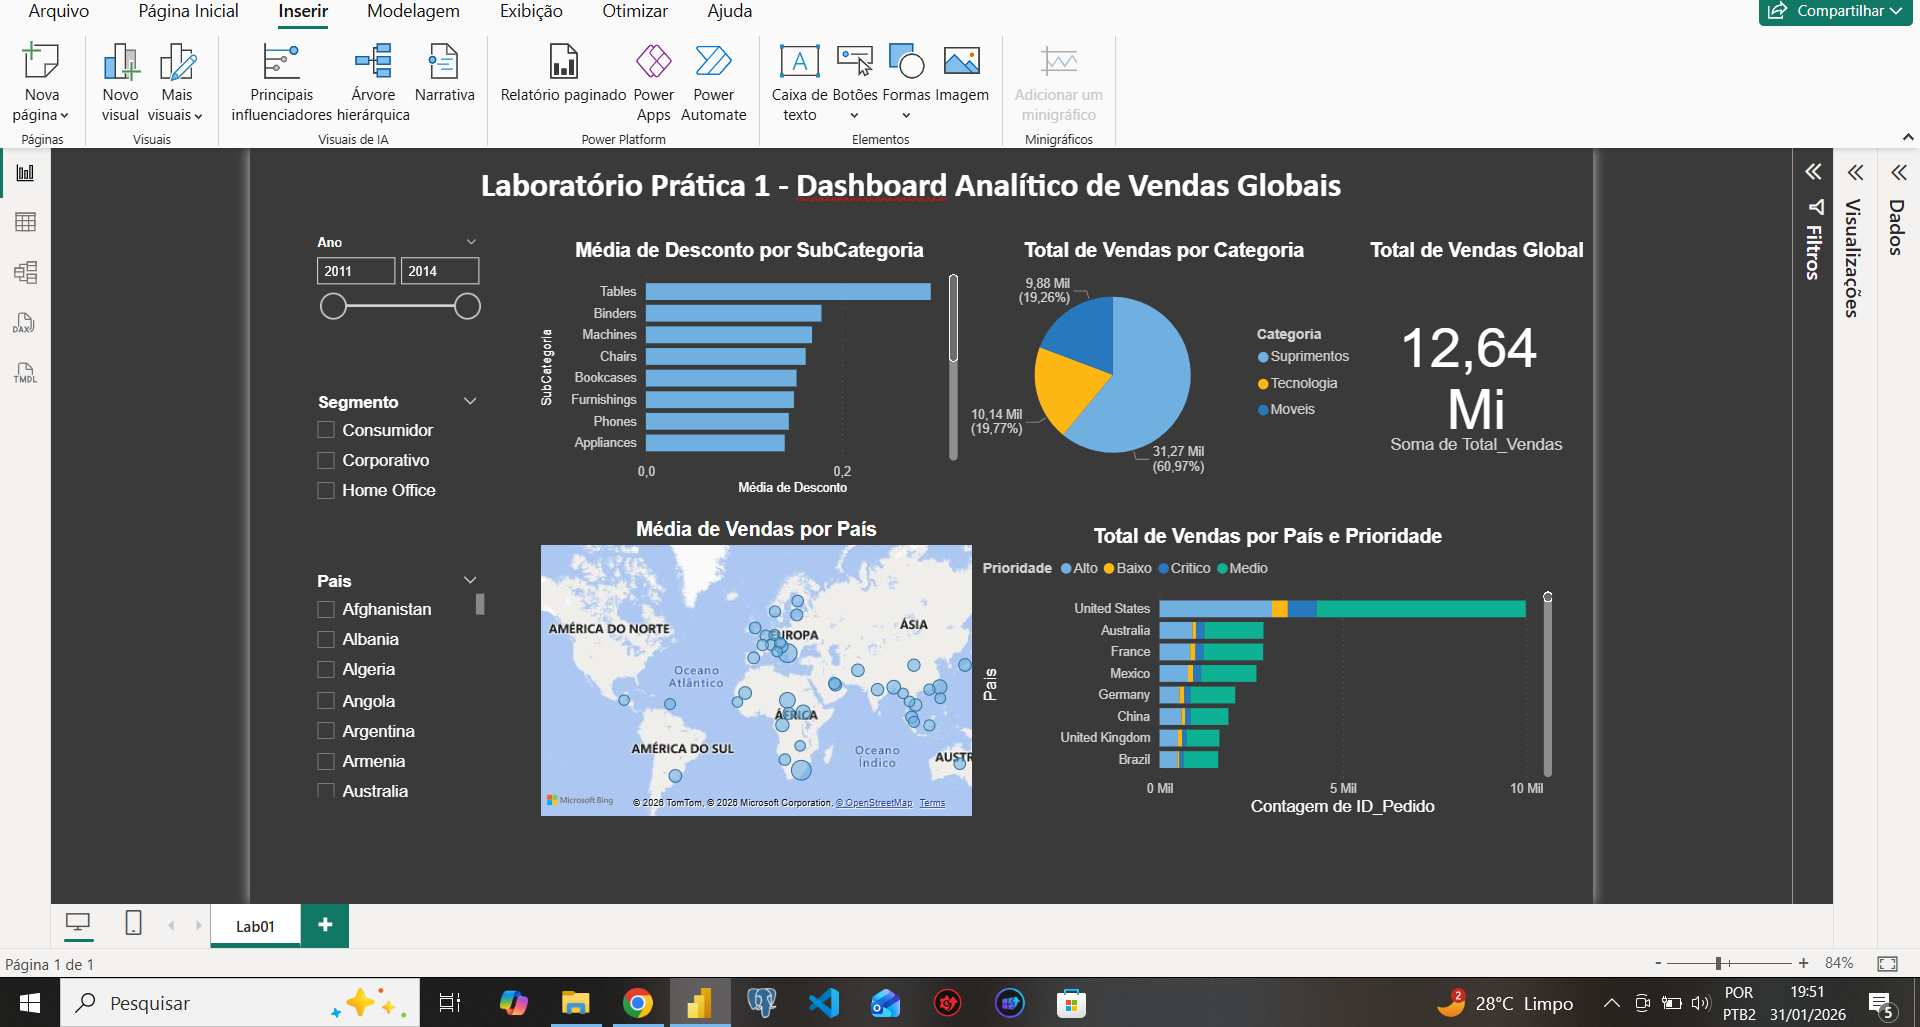

Layout of this report page (visuals, bound fields, positions):
{"tool":"powerbi","page":{"name":"Lab01","canvas":[1280,720],"ordinal":0},"visuals":[{"type":"card","title":"Total de Vendas Global","fields":{"Values":["Sum(dataset.Total_Vendas)"]},"box":[1055.6,86.9,224.4,248.5],"z":0},{"type":"pieChart","title":"Total de Vendas por Categoria","fields":{"Category":["dataset.Categoria"],"Y":["CountNonNull(dataset.ID_Pedido)"]},"box":[679.2,86.9,381.2,237.7],"z":1000},{"type":"barChart","title":"Total de Vendas por País e Prioridade","fields":{"Category":["dataset.Pais"],"Y":["CountNonNull(dataset.ID_Pedido)"],"Series":["dataset.Prioridade"]},"box":[692.5,359.5,552.5,281.1],"z":2000},{"type":"clusteredBarChart","fields":{"Category":["dataset.SubCategoria"],"Y":["Avg(dataset.Desconto)"]},"box":[272.7,86.9,406.6,248.5],"z":3000},{"type":"map","title":"Média de Vendas por País","fields":{"Category":["dataset.Pais"],"Size":["Avg(dataset.Total_Vendas)"]},"box":[272.7,352.3,419.8,288.3],"z":4000},{"type":"slicer","fields":{"Values":["dataset.Pais"]},"box":[50.7,399.3,177.3,224.4],"z":5000},{"type":"slicer","fields":{"Values":["dataset.Segmento"]},"box":[50.7,228,177.3,171.3],"z":6000},{"type":"slicer","fields":{"Values":["dataset.Data_Pedido.Variation.Hierarquia de datas.Ano"]},"box":[50.7,78.4,177.3,149.6],"z":7000},{"type":"textbox","box":[199.1,10.9,861.4,56.7],"z":8000}]}

Visuals, with their boxes on the page's 1280x720 design canvas (x1, y1, x2, y2). These are canvas units, not pixel positions in the 1920x1027 screenshot, which may show the page scaled, cropped or inside an application window:
"Total de Vendas Global" card: x1=1056 y1=87 x2=1280 y2=335
"Total de Vendas por Categoria" pieChart: x1=679 y1=87 x2=1060 y2=325
"Total de Vendas por País e Prioridade" barChart: x1=692 y1=360 x2=1245 y2=641
clusteredBarChart - dataset.SubCategoria x Avg(dataset.Desconto): x1=273 y1=87 x2=679 y2=335
"Média de Vendas por País" map: x1=273 y1=352 x2=692 y2=641
slicer - dataset.Pais: x1=51 y1=399 x2=228 y2=624
slicer - dataset.Segmento: x1=51 y1=228 x2=228 y2=399
slicer - dataset.Data_Pedido.Variation.Hierarquia de datas.Ano: x1=51 y1=78 x2=228 y2=228
textbox: x1=199 y1=11 x2=1060 y2=68
